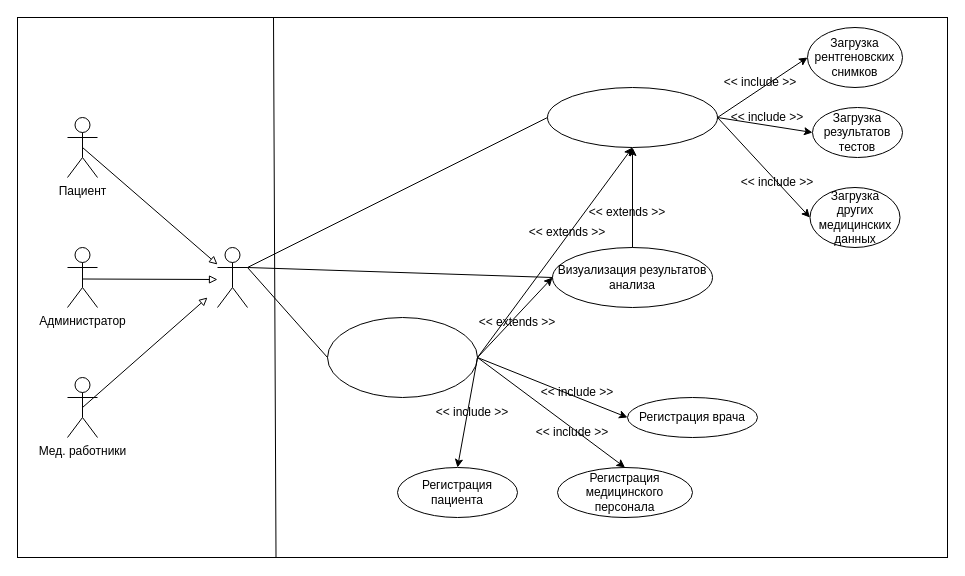
The diagram is 965 pixels wide and 576 high, and some of its shapes have lost their labels. The shapes that lost their labels are listed below. From the top down, each one's centre as x and y in pixels, then its label:
[632,117]: Анализ данных с использованием алгоритмов машинного обучения
[232,277]: Пользователь
[402,357]: Защита конфиденциальности медицинских данных
